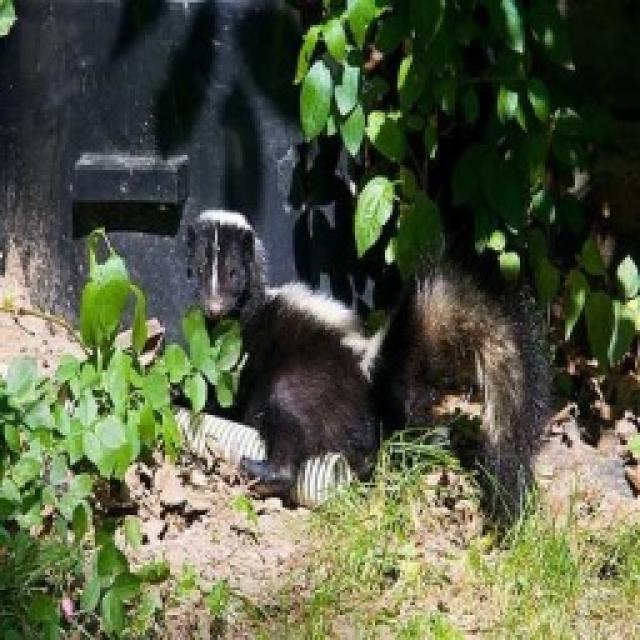Skunk: (138, 191, 384, 485)
